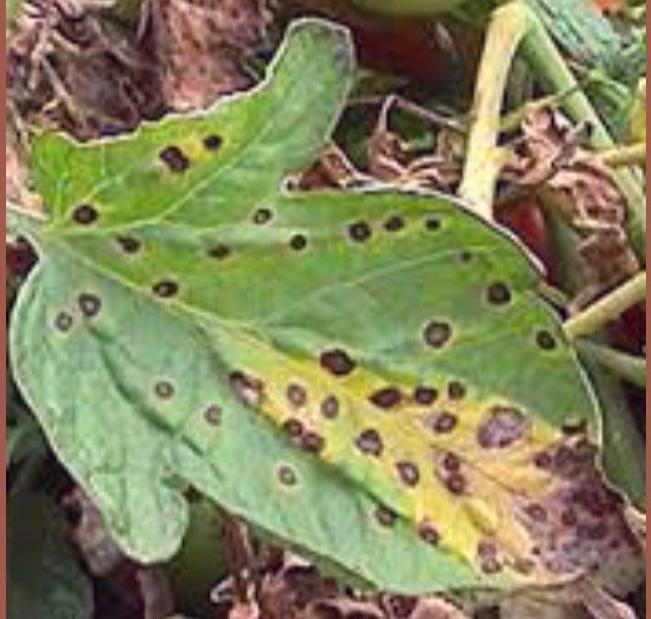Tomato Septoria leaf spot: (8, 18, 627, 604)
